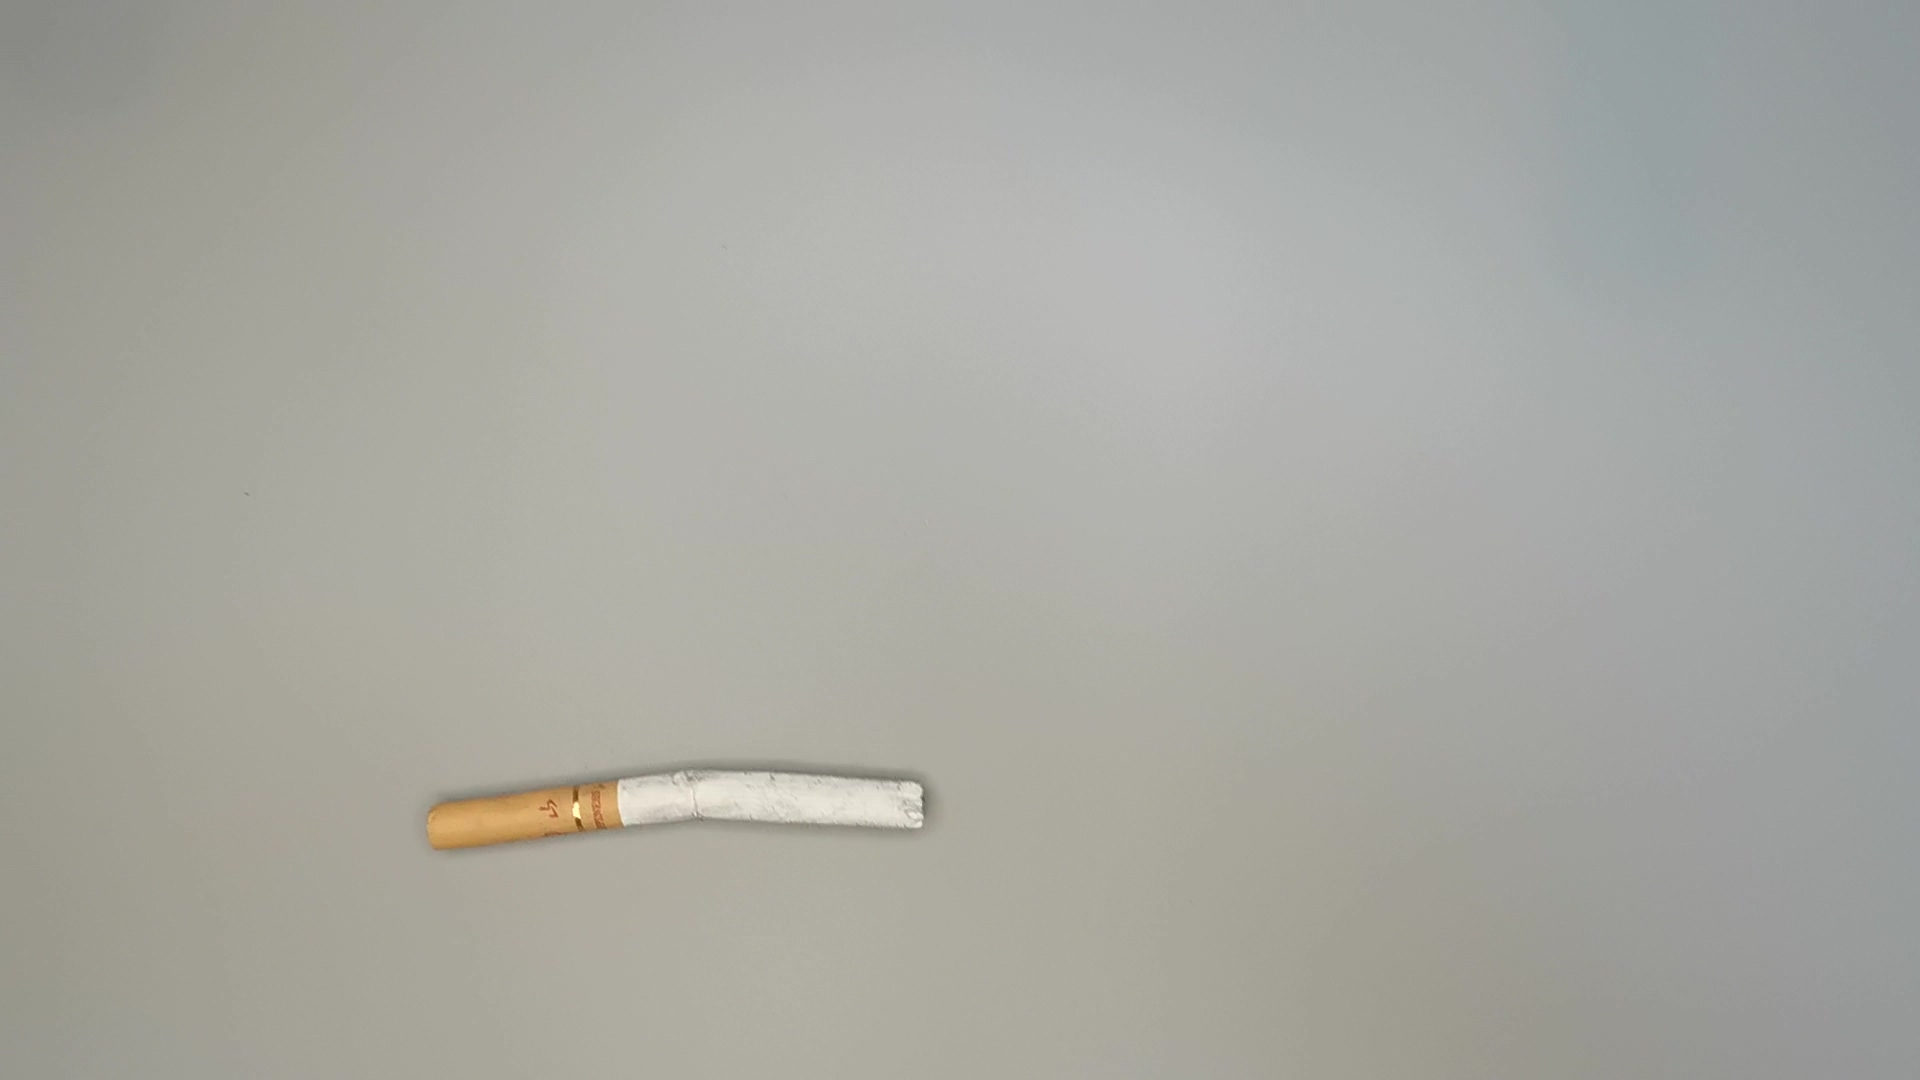cigarette: (418, 752, 940, 885)
